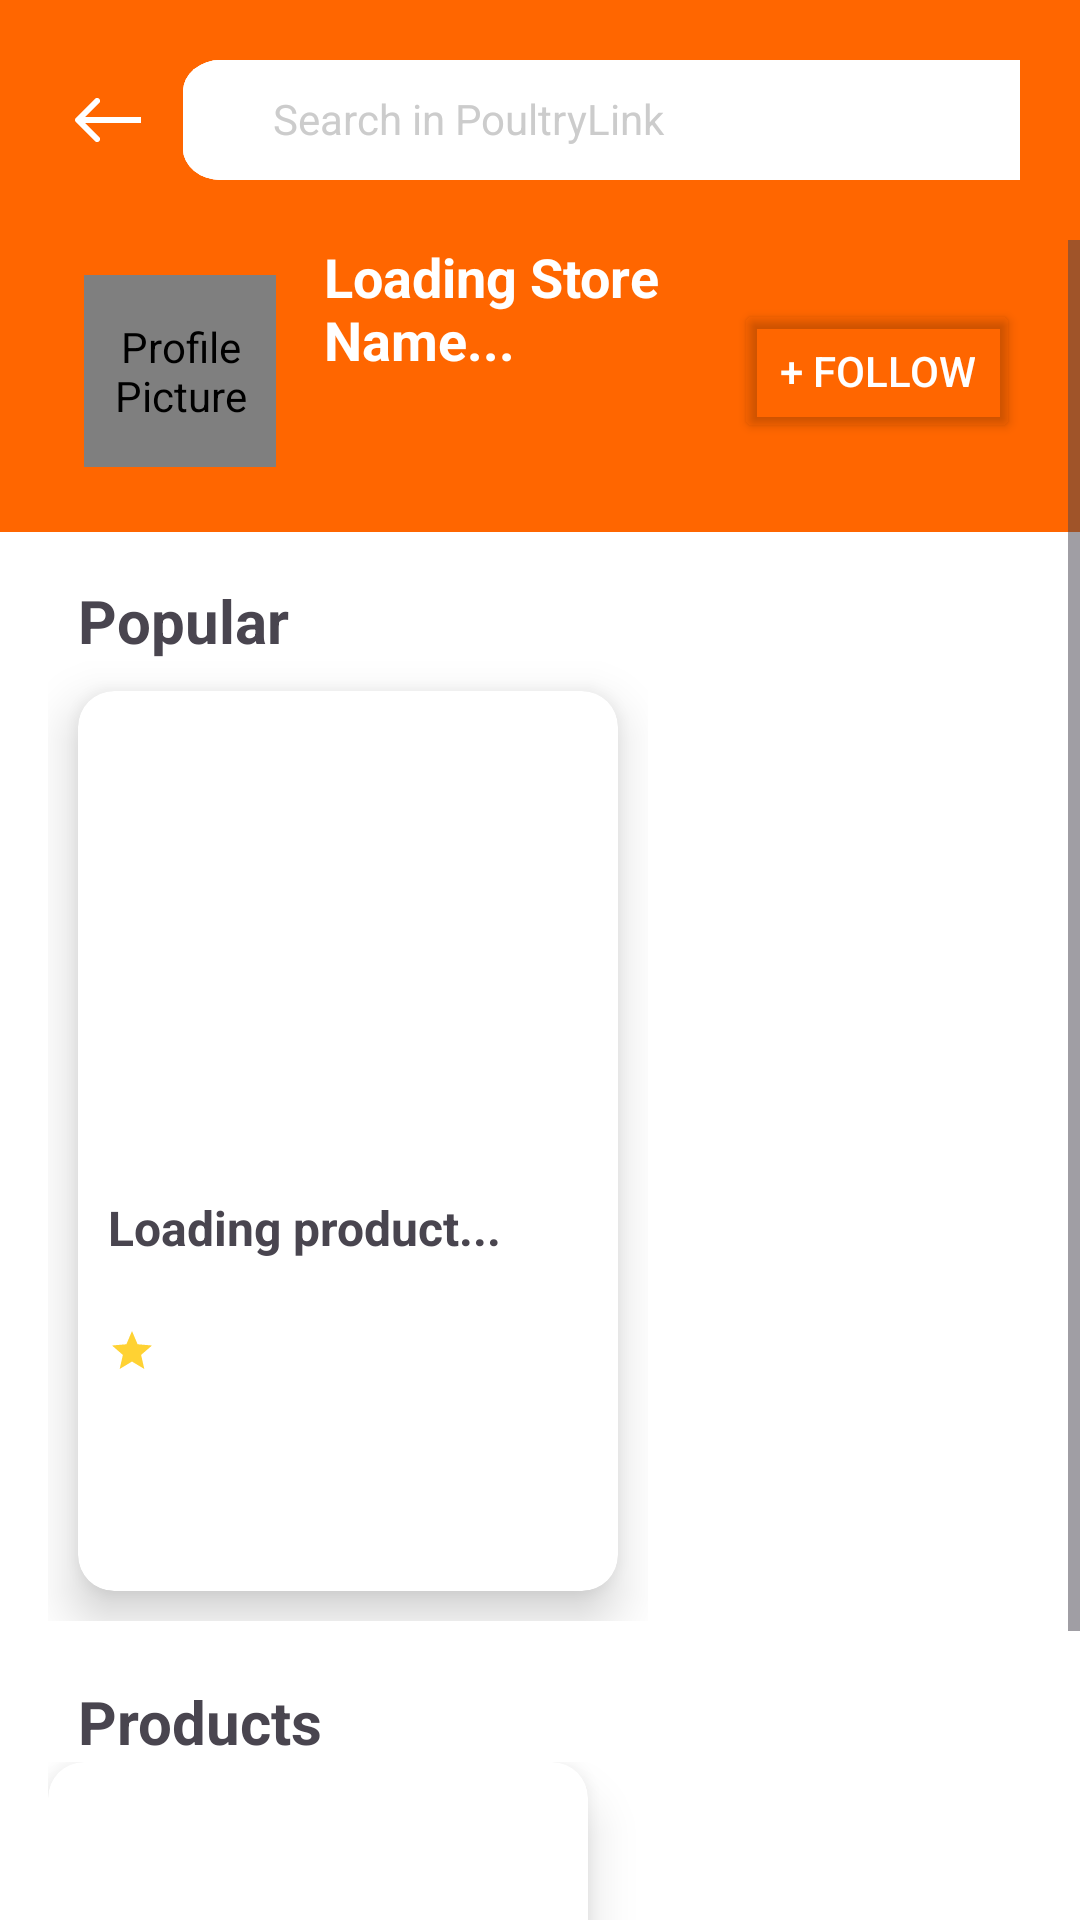

Named icons in this screenshot (1080 x 1920) and their bounding boxes, (x1, y1, x2, y2):
arrowback: (75, 98, 141, 142)
star: (112, 1331, 152, 1369)
